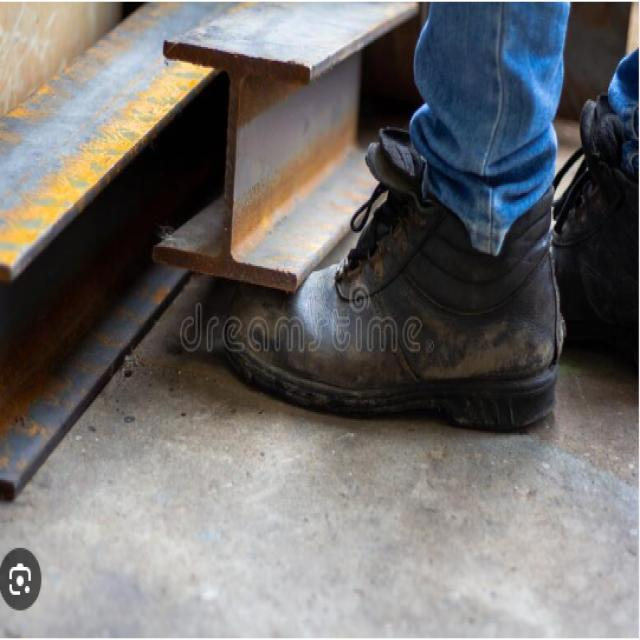boots: (215, 82, 640, 440)
